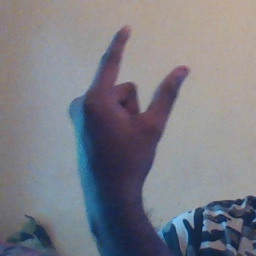U: (64, 24, 194, 170)
